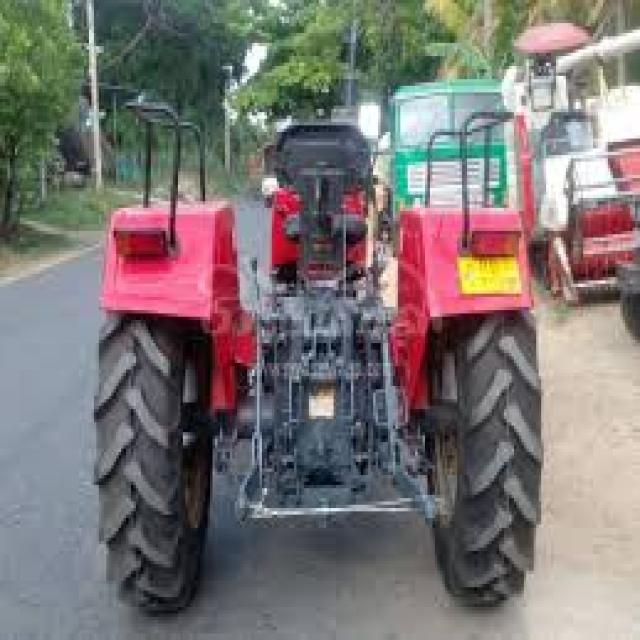tractor: (94, 86, 539, 610)
